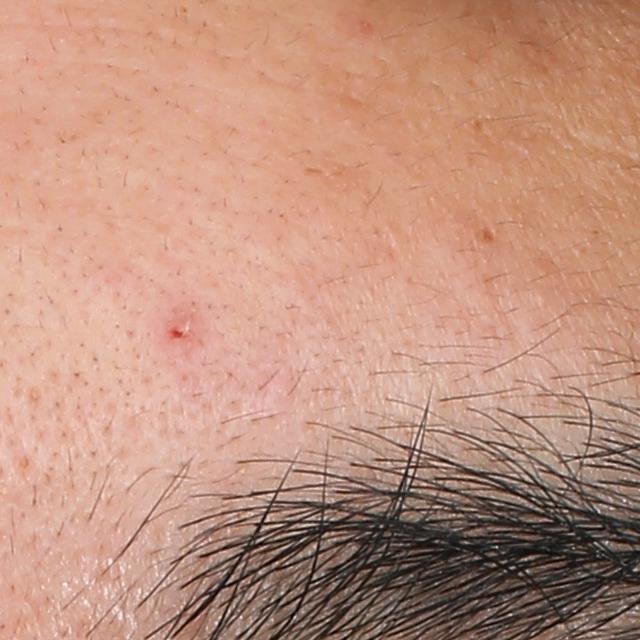papule: (162, 312, 207, 358)
